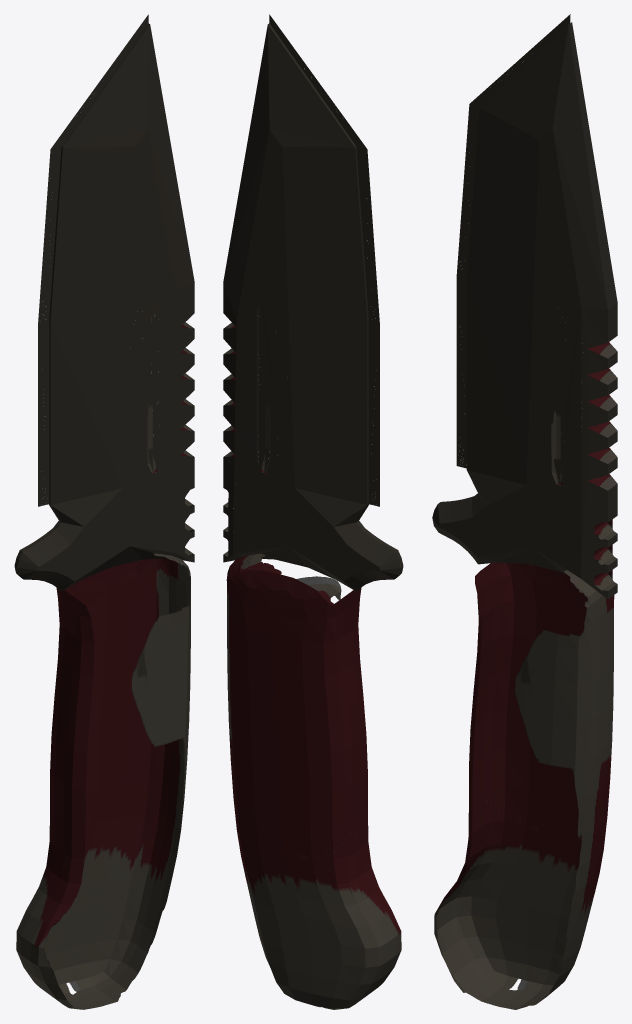
File: Knife_Apply.fbx
3 renders of one model, left to right at view 1: azimuth 30°, elevation 25°; view 2: azimuth 150°, elevation 25°; view 3: azimuth 330°, elevation 25°, orthographic. The views are drawn at different scales.
Visible parts, largest first — view 1: Plane.001; view 2: Plane.001; view 3: Plane.001.
Part boxes in pixels (left/top/right/bottom): Plane.001: left=14, top=14, right=194, bottom=1009; Plane.001: left=223, top=14, right=403, bottom=1009; Plane.001: left=432, top=14, right=617, bottom=1009.
Size of the model in its own units: 0.0508 by 0.2709 by 0.0187.
